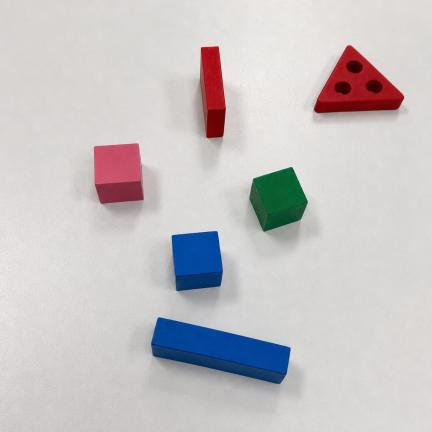BuildingBlocks: (152, 318, 290, 383), (315, 46, 403, 112), (250, 168, 307, 230), (172, 232, 222, 290), (95, 144, 143, 203), (200, 47, 225, 137)
